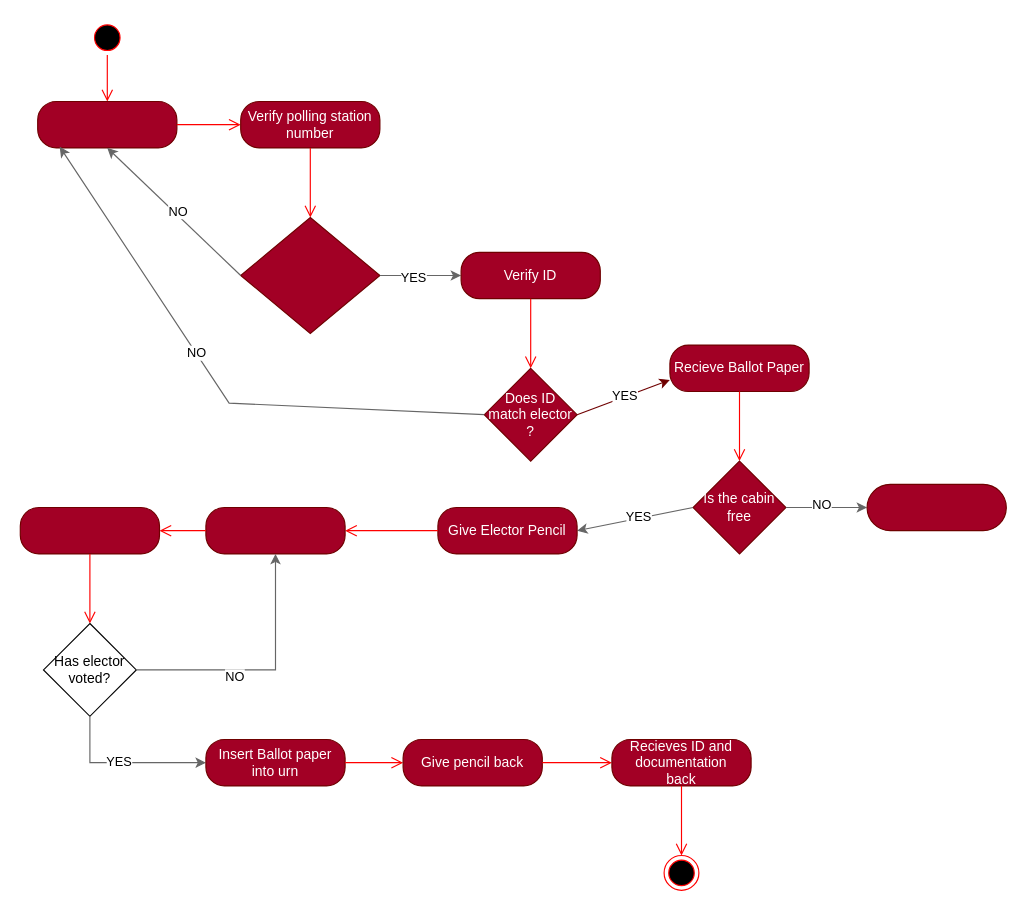
Image size: 1027x911. Some labels were removed from this diagram. The shapes that lost their labels are listed below. From the top down, each one's centre as x and y in pixels, then its label:
At pixel 107 124: "Elector Registration".
At pixel 310 275: "Is the station polling number right?".
At pixel 936 507: "Wait patiently".
At pixel 89 530: "Secretary signs elector Certificate".
At pixel 275 530: "Cast Vote".
